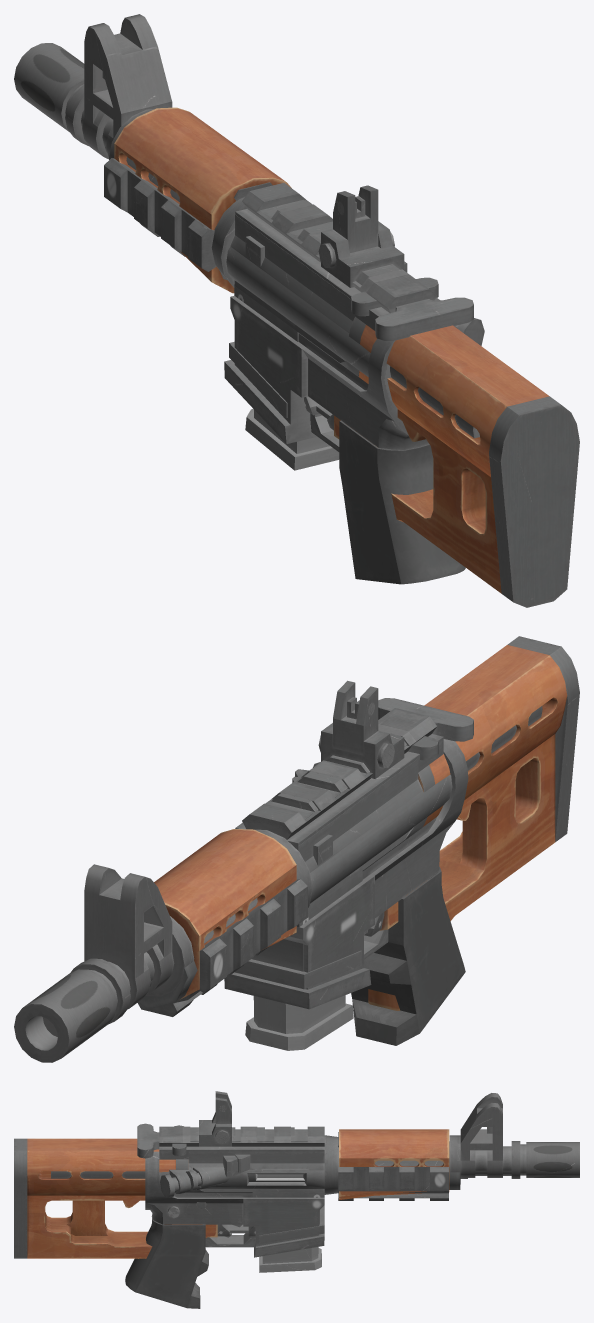
The model's file is IG_Gun_ADAR.fbx.
3 renders of one model, top to bottom at view 1: azimuth 30°, elevation 25°; view 2: azimuth 150°, elevation 25°; view 3: azimuth 270°, elevation 25°, orthographic. The views are drawn at different scales.
Visible parts, largest first — view 1: HideIf_Stock, ShowIf_Stock, HideIf_Scope, HideIf_Grip, ShowIf_Grip, HideIf_Muzzle, WPN_ADAR; view 2: HideIf_Stock, ShowIf_Stock, HideIf_Scope, HideIf_Grip, HideIf_Muzzle, ShowIf_Grip, WPN_ADAR; view 3: HideIf_Stock, ShowIf_Stock, HideIf_Grip, HideIf_Scope, ShowIf_Grip, HideIf_Muzzle, WPN_ADAR.
Part boxes in pixels (box(x1,y1,x2,y2)): HideIf_Stock: box(229, 199, 579, 607); ShowIf_Stock: box(224, 183, 484, 584); HideIf_Scope: box(82, 14, 404, 287); HideIf_Grip: box(81, 107, 291, 293); ShowIf_Grip: box(104, 146, 272, 290); HideIf_Muzzle: box(14, 43, 89, 146); WPN_ADAR: box(245, 409, 339, 470); HideIf_Stock: box(235, 636, 579, 1010); ShowIf_Stock: box(224, 698, 473, 1045); HideIf_Scope: box(84, 680, 404, 1009); HideIf_Grip: box(108, 829, 312, 999); HideIf_Muzzle: box(14, 958, 130, 1062); ShowIf_Grip: box(137, 879, 307, 1016); WPN_ADAR: box(245, 995, 353, 1050); HideIf_Stock: box(14, 1125, 324, 1258); ShowIf_Stock: box(125, 1123, 324, 1308); HideIf_Grip: box(324, 1129, 511, 1199); HideIf_Scope: box(199, 1091, 502, 1177); ShowIf_Grip: box(338, 1132, 511, 1200); HideIf_Muzzle: box(511, 1141, 579, 1178); WPN_ADAR: box(259, 1247, 321, 1272).
Size of the model in its own units: 0.1586 by 0.4102 by 1.01.
